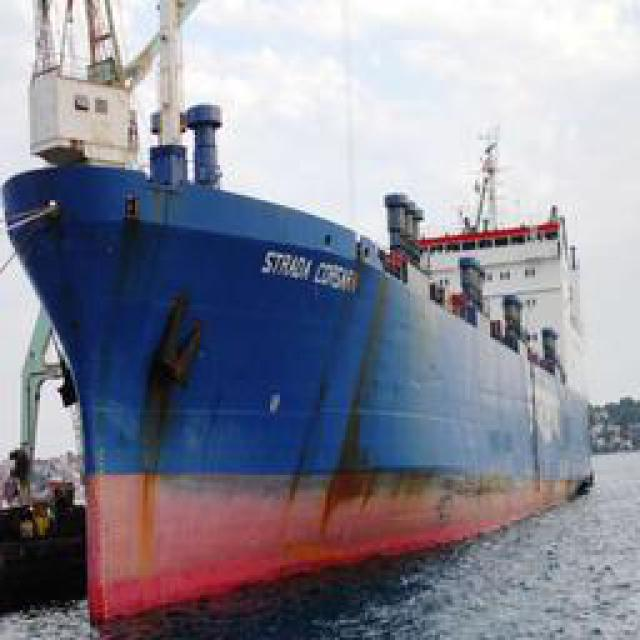Ship: (1, 96, 604, 632)
